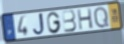4: (17, 15, 30, 38)
B: (61, 9, 77, 34)
G: (46, 11, 62, 35)
H: (76, 7, 95, 31)
J: (32, 12, 45, 36)
Q: (93, 6, 110, 29)
